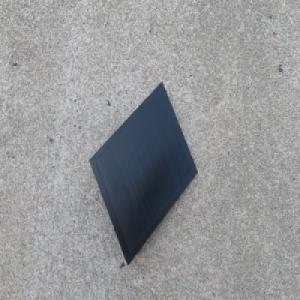PlasticPart: (88, 80, 198, 266)
